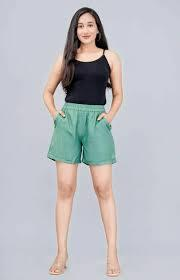short: (46, 102, 121, 167)
